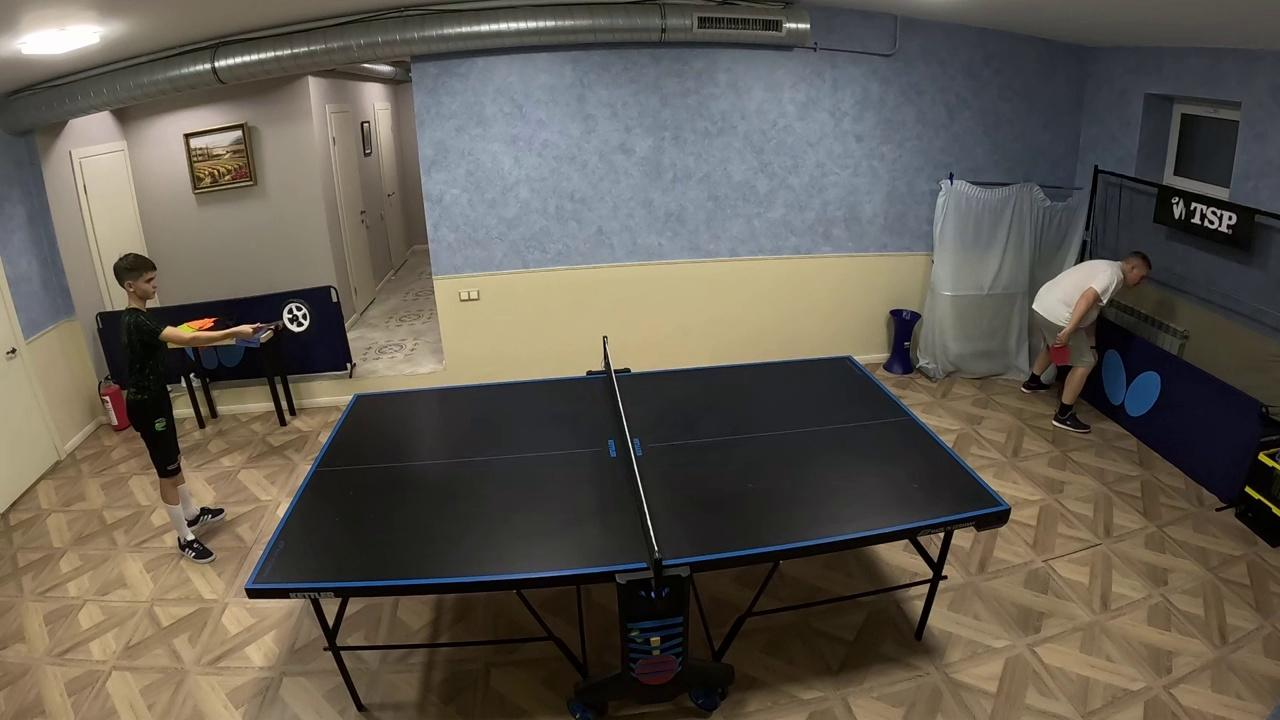Net: (599, 336, 665, 593)
Player1: (95, 251, 277, 573)
Player2: (1027, 247, 1153, 427)
Table: (245, 371, 649, 597), (616, 356, 1010, 572)
